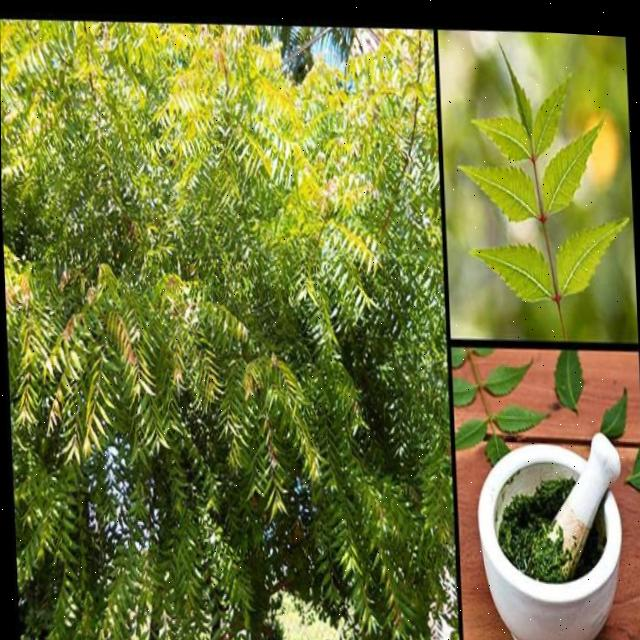Wet: (0, 15, 461, 640), (453, 55, 629, 337)
